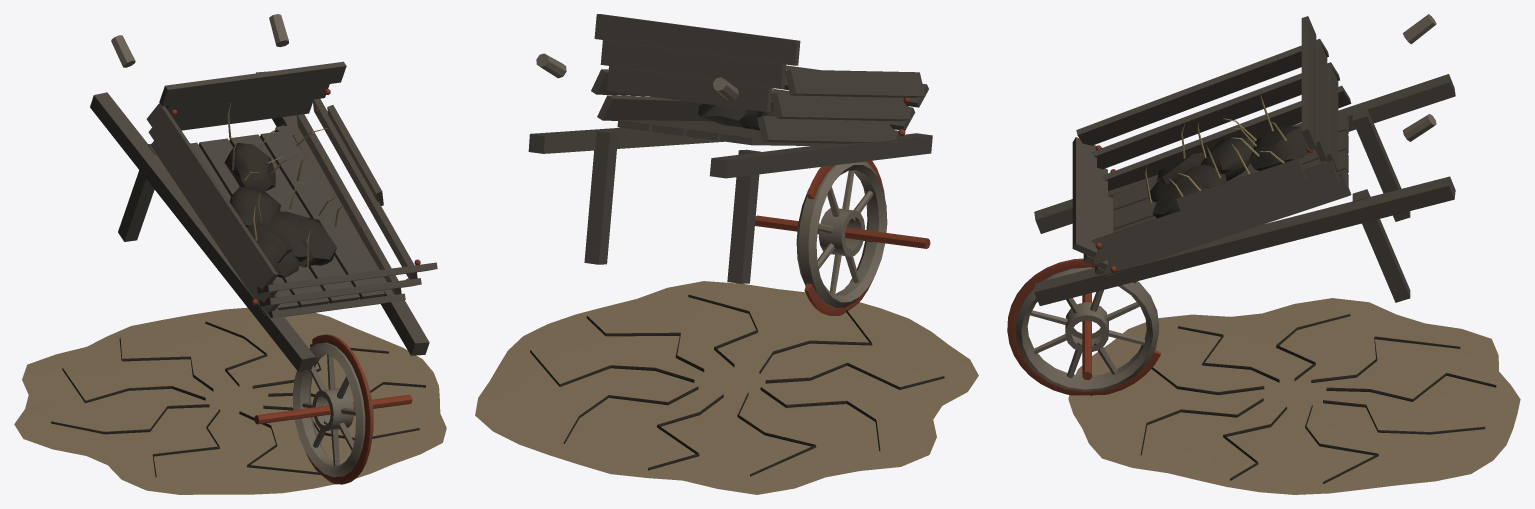
Rendered from carro_madera.glb.
3 views of the same model, side by side, from view 1: azimuth 30°, elevation 25°; view 2: azimuth 150°, elevation 25°; view 3: azimuth 270°, elevation 25° (orthographic). The views are drawn at different scales.
Parts seen in each view (by area): view 1: Carretilla; view 2: Carretilla; view 3: Carretilla.
Boxes of the visible parts, x1,y1,x2,y2 form: Carretilla: [14, 14, 446, 494]; Carretilla: [475, 14, 978, 494]; Carretilla: [1007, 14, 1520, 494].
Size of the model in its own units: 1.48 by 1.25 by 1.63.
